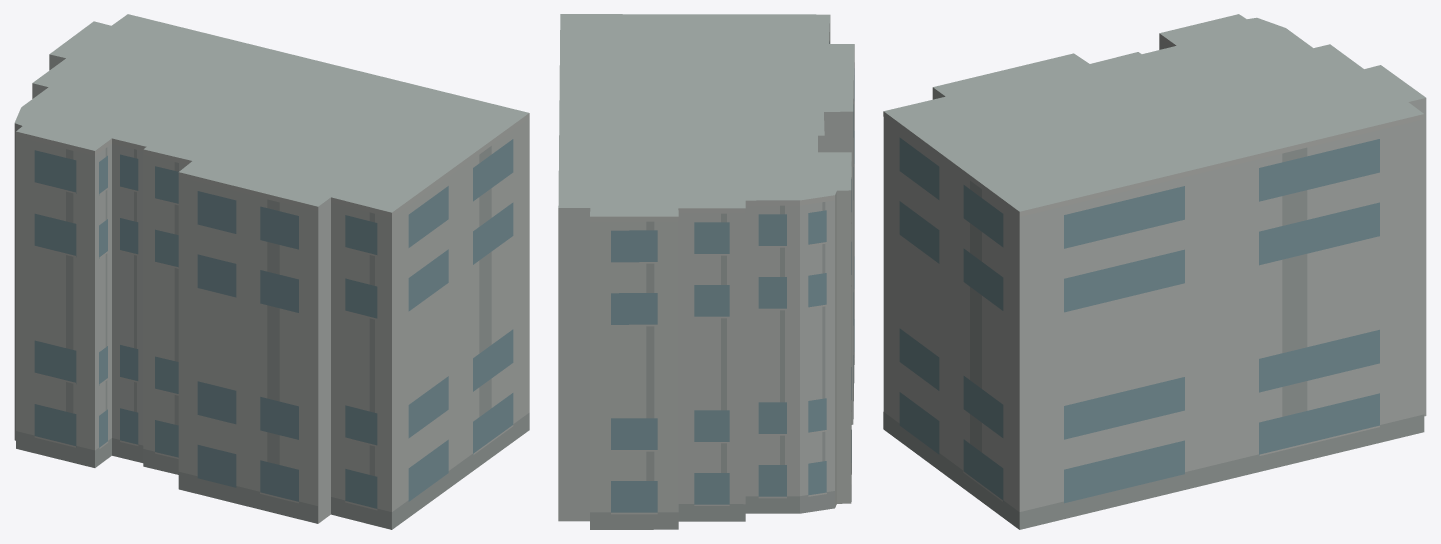
Rendered from survey-upis-32839536.glb.
The picture shows the model from 3 angles, left to right: view 1: azimuth 30°, elevation 25°; view 2: azimuth 150°, elevation 25°; view 3: azimuth 270°, elevation 25°; orthographic projection.
Visible parts, largest first — view 1: survey-upis-32839536.tmp; view 2: survey-upis-32839536.tmp; view 3: survey-upis-32839536.tmp.
Part boxes in pixels (left/top/right/bottom): survey-upis-32839536.tmp: left=14, top=14, right=529, bottom=529; survey-upis-32839536.tmp: left=558, top=14, right=854, bottom=529; survey-upis-32839536.tmp: left=883, top=14, right=1426, bottom=529.
Size of the model in its own units: 19.61 by 14.7 by 22.75.
